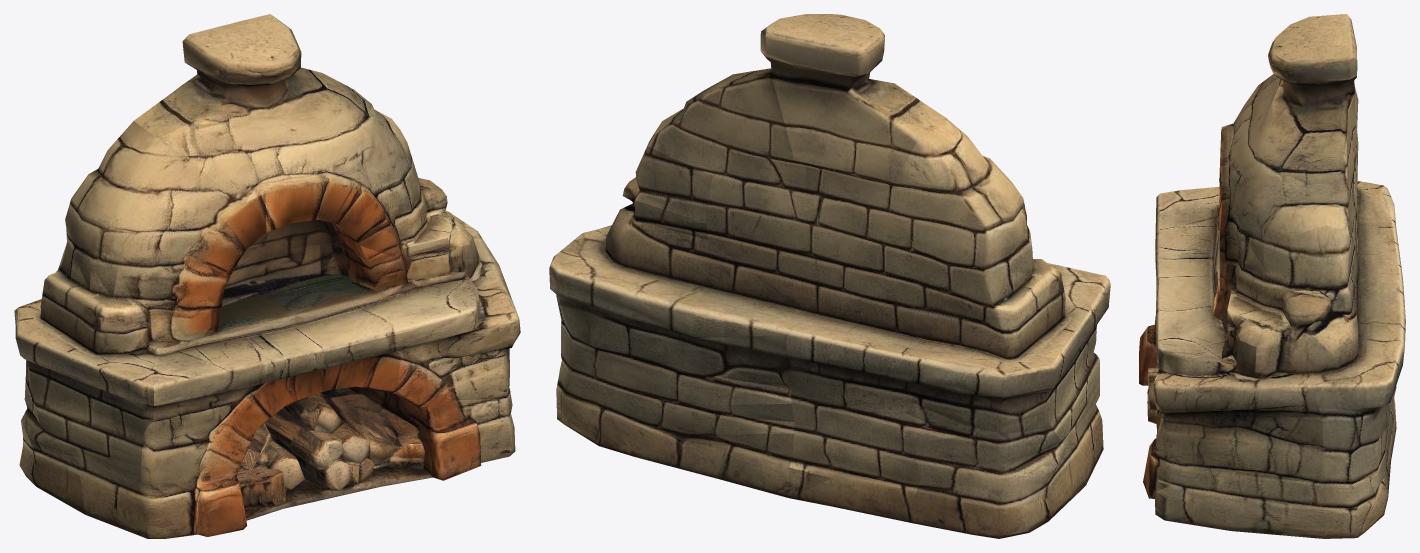
File: CookingRange.glb
3 renders of one model, left to right at view 1: azimuth 30°, elevation 25°; view 2: azimuth 150°, elevation 25°; view 3: azimuth 270°, elevation 25°, orthographic. The views are drawn at different scales.
Parts seen in each view (by area): view 1: mesh_node; view 2: mesh_node; view 3: mesh_node.
Boxes of the visible parts, x1,y1,x2,y2 form: mesh_node: (14, 14, 520, 538); mesh_node: (549, 14, 1110, 538); mesh_node: (1139, 14, 1405, 538).
Bounding box in the file's own units: 1 × 0.8633 × 0.5254.
Materials: 1 (1 with a texture image).
